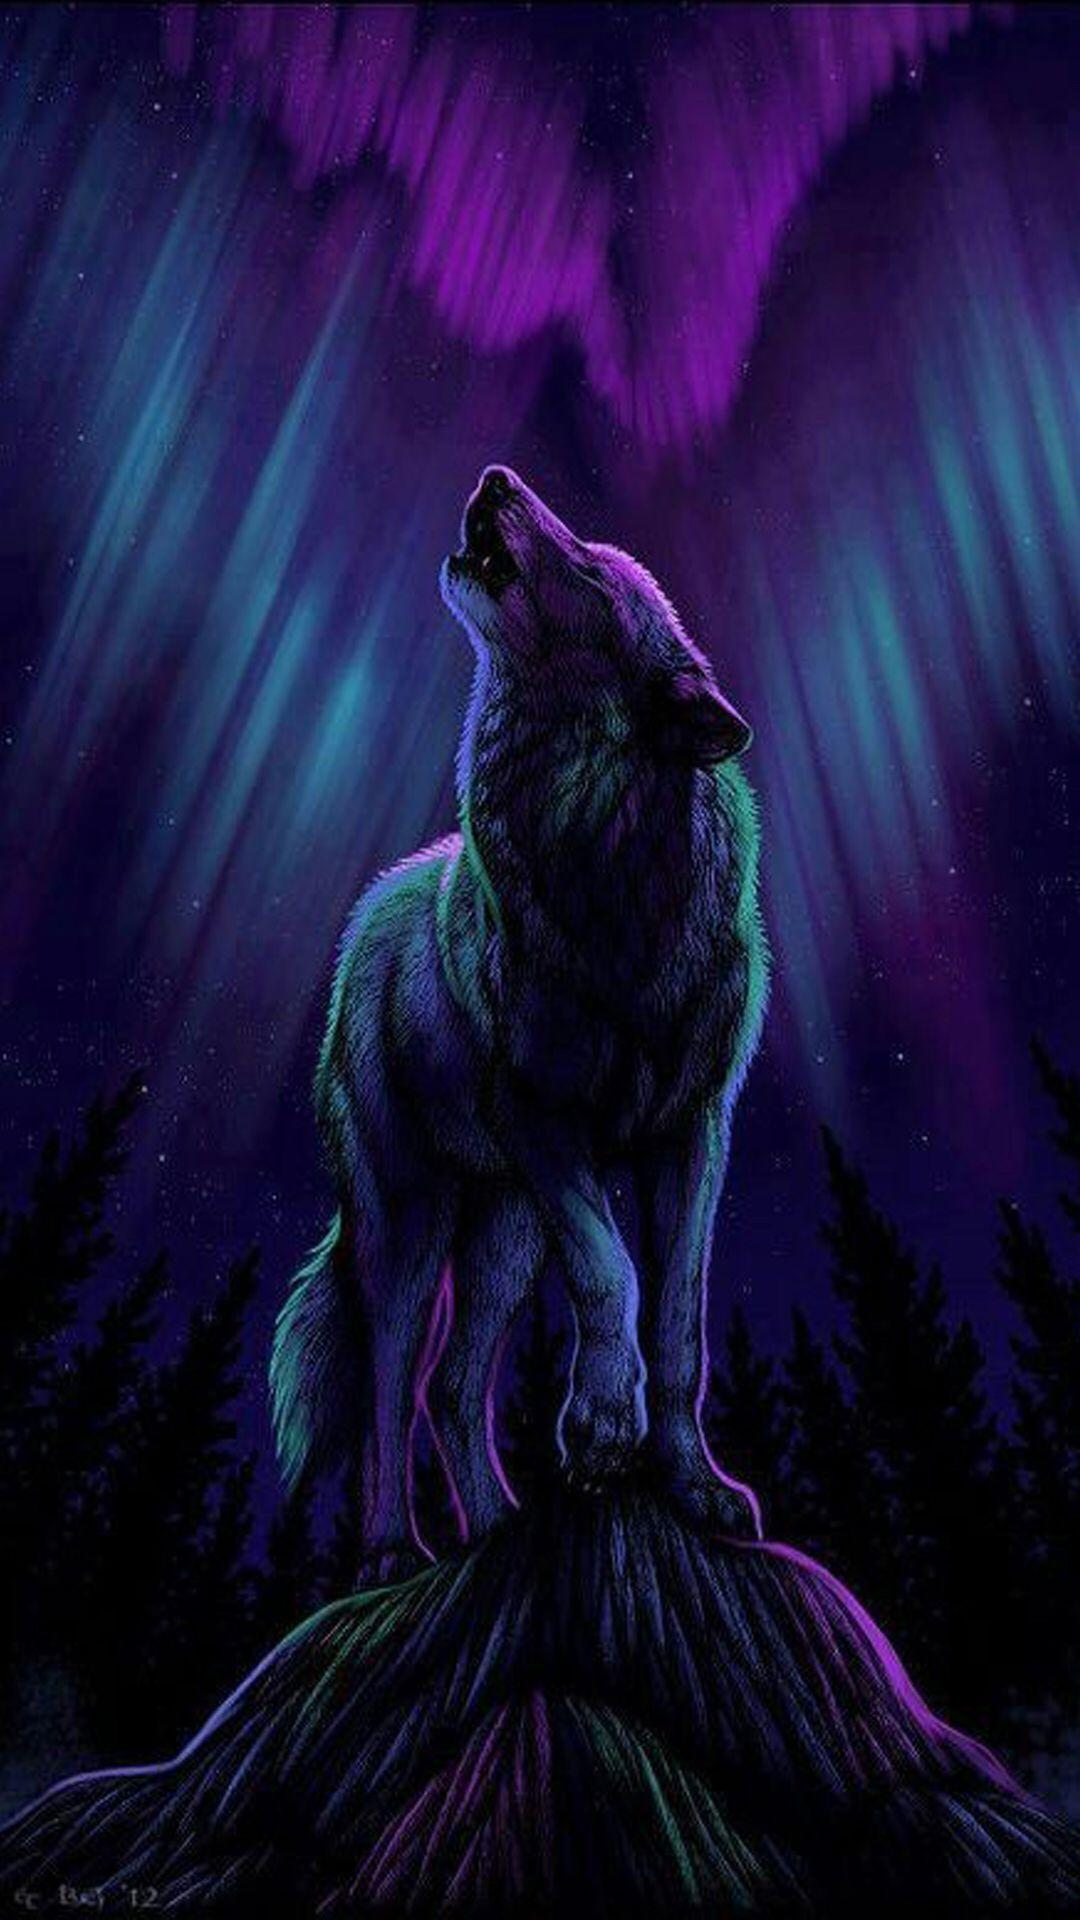Lobo: (150, 452, 956, 1440)
